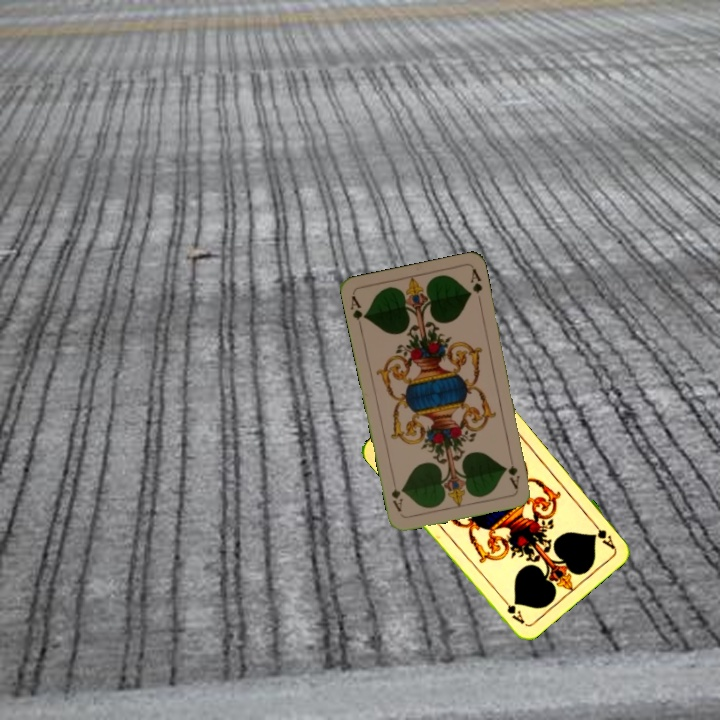GA: (587, 516, 618, 552), (346, 291, 369, 331), (504, 451, 522, 492)
